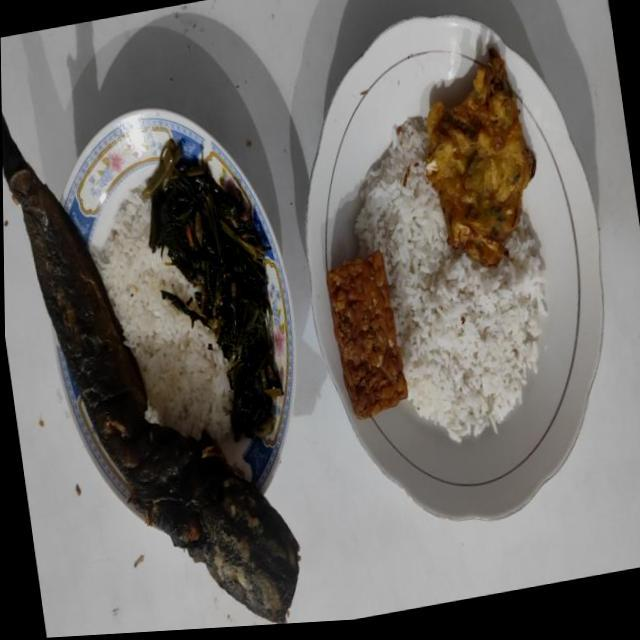nasi_putih: (354, 118, 546, 441), (90, 190, 233, 441)
tempe_goreng: (327, 250, 408, 418)
tumis_kangkung: (142, 142, 281, 440)
